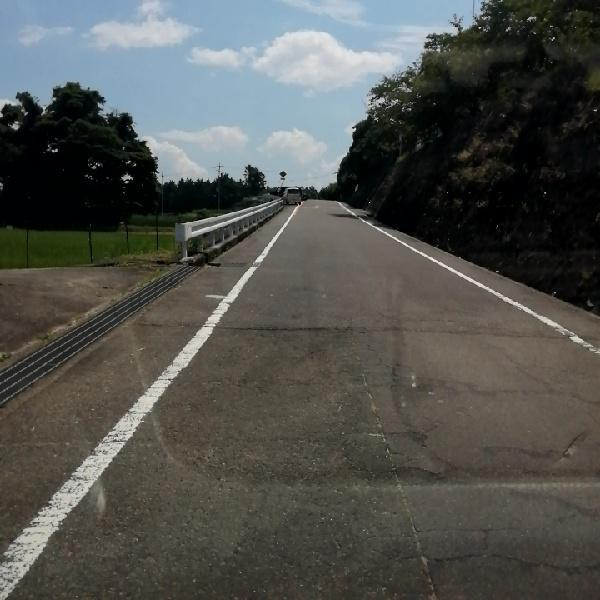D10: (430, 537, 599, 579), (418, 522, 547, 542)
